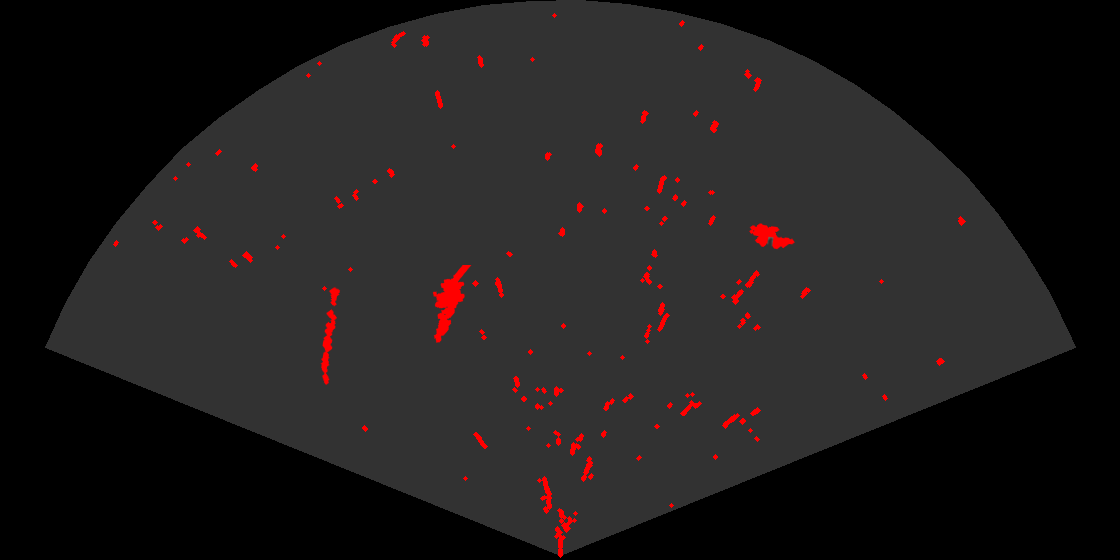AUV: (748, 222, 796, 251)
chain: (319, 285, 342, 387)
frogman: (431, 265, 473, 344)
